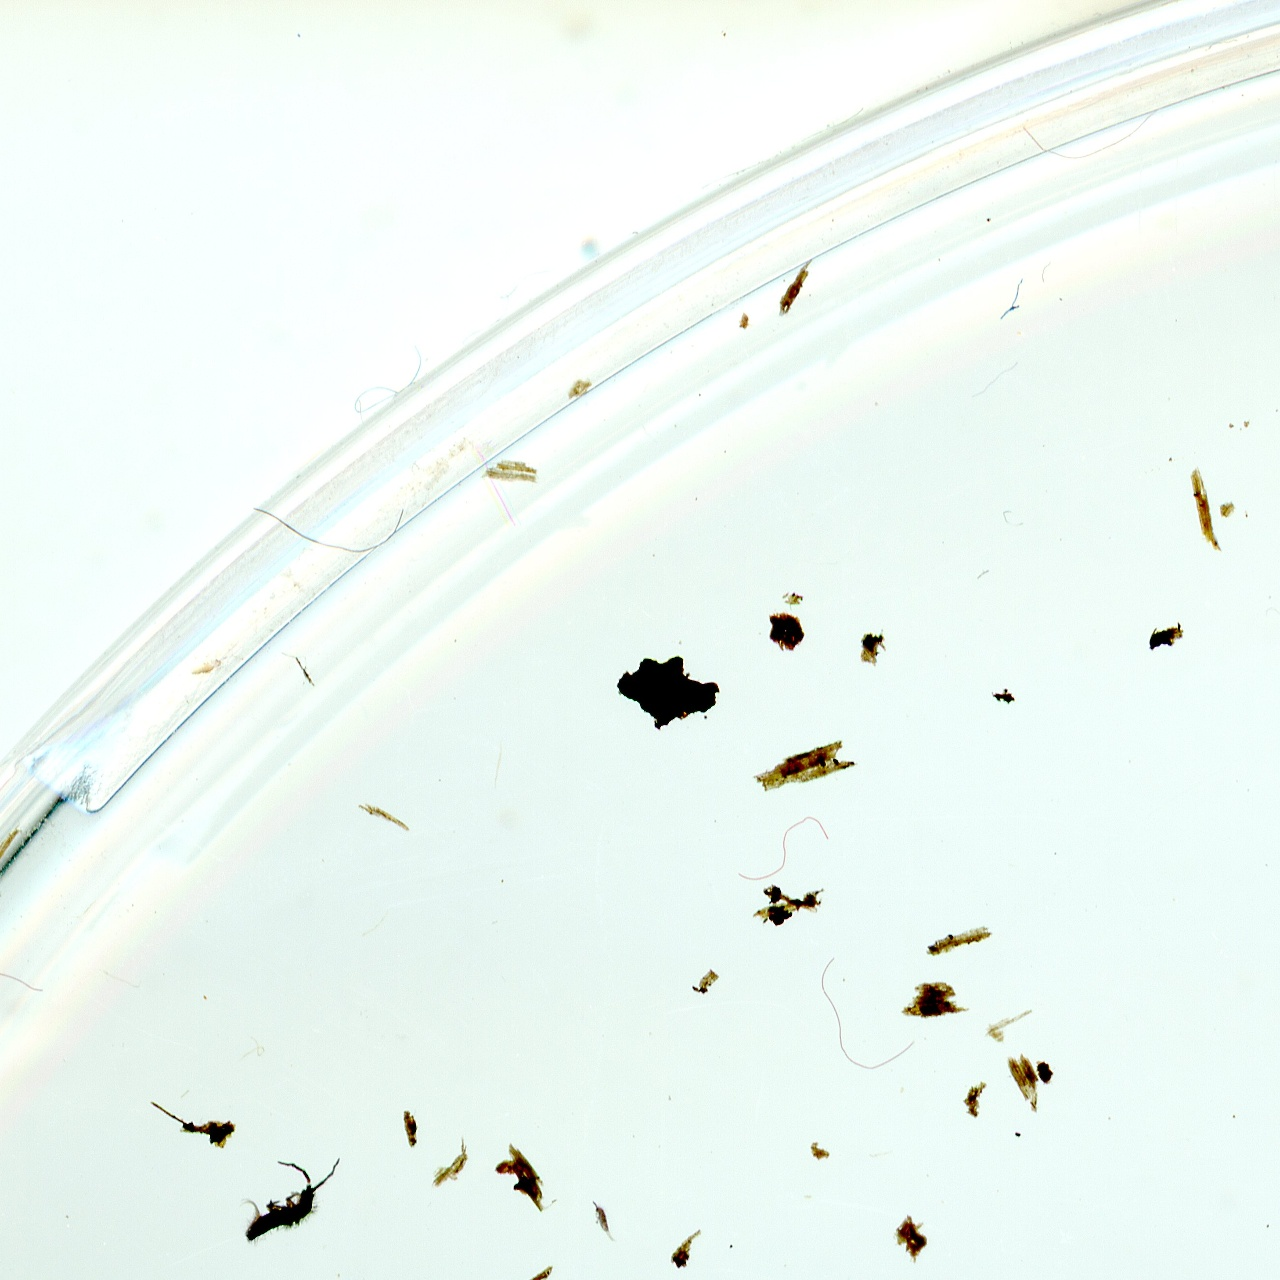arthropod: (215, 1131, 366, 1258), (581, 1192, 626, 1254)
